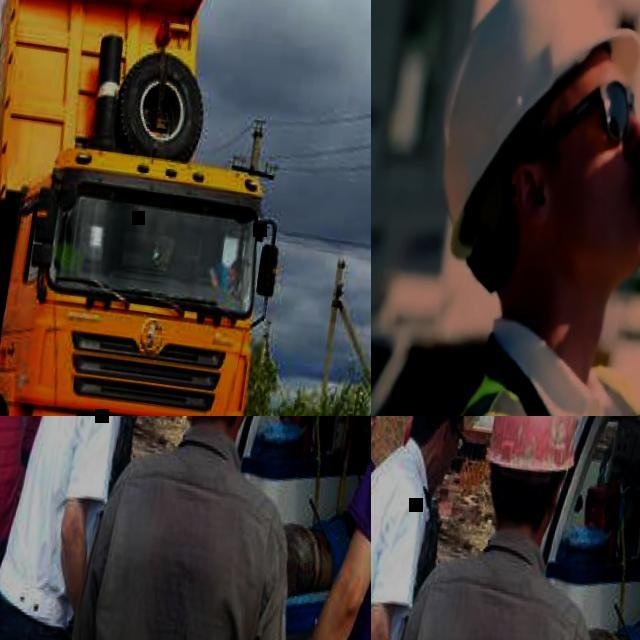Helmet: (442, 0, 622, 277), (482, 409, 594, 483)
Robbery: (431, 0, 639, 413), (80, 413, 330, 639), (441, 404, 613, 640), (0, 412, 136, 633), (378, 417, 452, 639)
